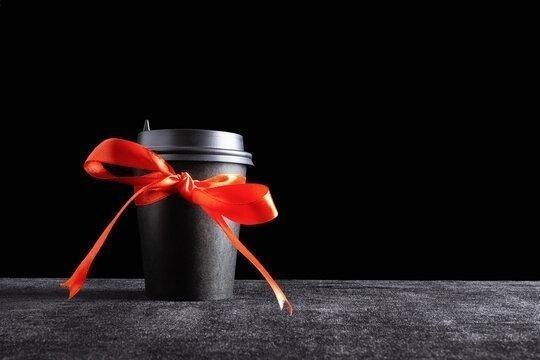cup-disposable: (129, 125, 255, 304)
